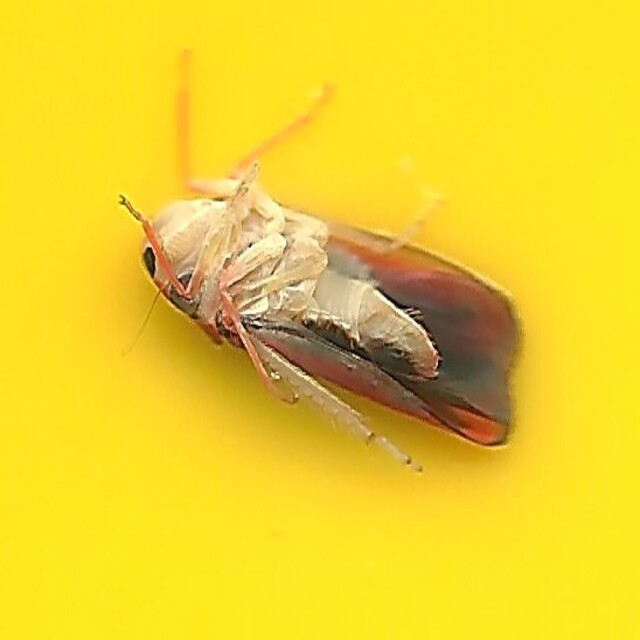Hemiptera: (117, 171, 523, 469)
